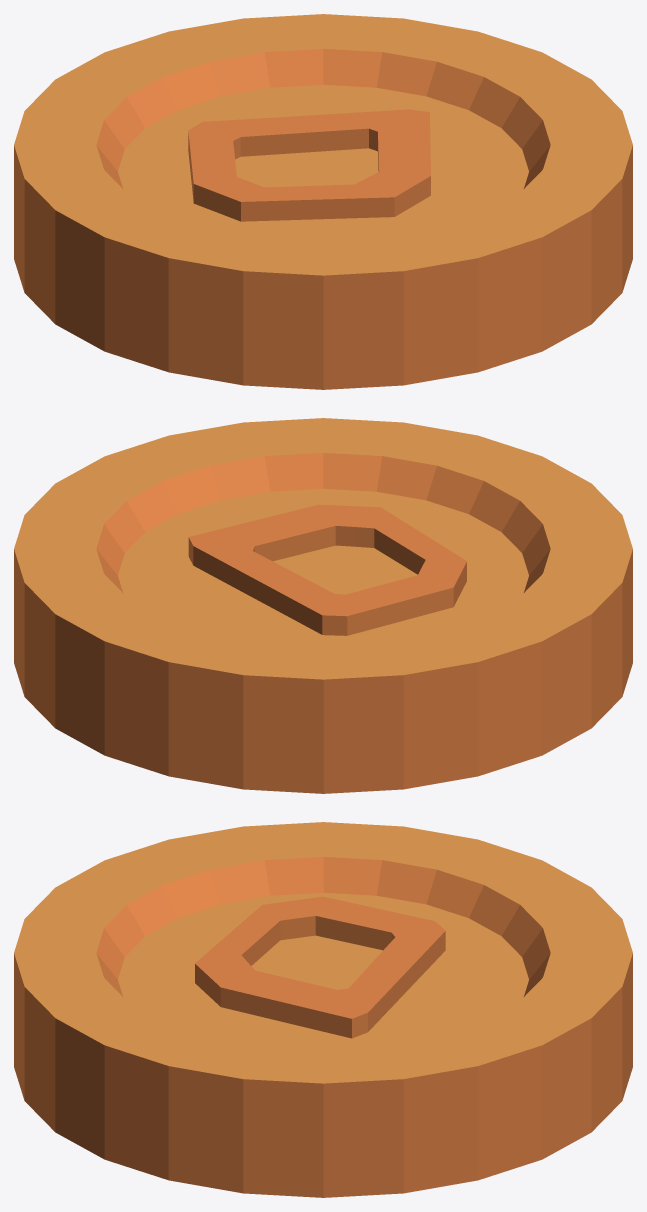
File: DinoCoin.fbx
3 views of the same model, one above another, from view 1: azimuth 30°, elevation 25°; view 2: azimuth 150°, elevation 25°; view 3: azimuth 270°, elevation 25° (orthographic).
Visible parts, largest first — view 1: Cylinder.029; view 2: Cylinder.029; view 3: Cylinder.029.
Boxes of the visible parts, x1,y1,x2,y2 form: Cylinder.029: (14,14,632,389); Cylinder.029: (14,418,632,793); Cylinder.029: (14,822,632,1197).
Size of the model in its own units: 200 by 200 by 40.76.
